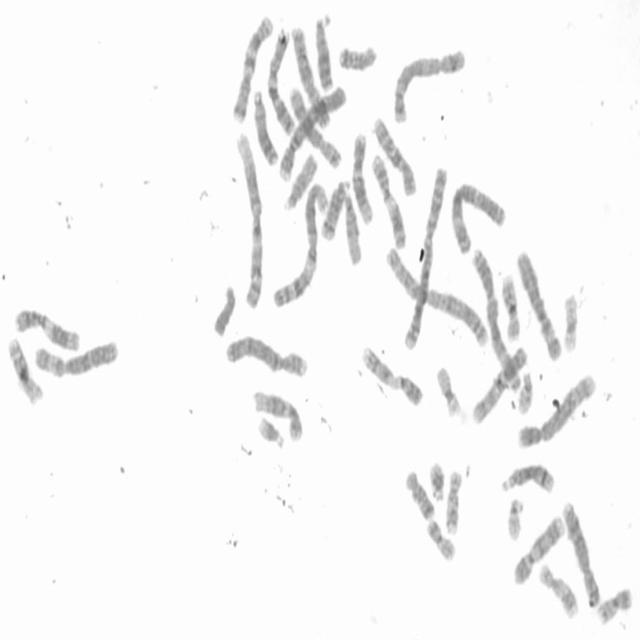A1: (271, 182, 330, 308), (236, 130, 265, 310)
A2: (385, 244, 489, 348), (404, 168, 447, 352)
A3: (470, 248, 522, 393), (450, 181, 507, 254)
B4: (278, 85, 348, 180), (225, 333, 307, 380)
B5: (516, 374, 597, 452), (392, 46, 467, 124)
C10: (471, 344, 527, 426), (373, 115, 418, 196)
C11: (370, 152, 408, 248), (14, 308, 81, 352)
C12: (252, 389, 304, 442), (351, 130, 376, 226)
C6: (515, 249, 562, 364), (34, 340, 120, 379)
C7: (232, 16, 274, 125), (265, 26, 296, 136)
C8: (288, 86, 343, 172), (562, 499, 601, 611)
C9: (512, 514, 567, 588), (362, 344, 425, 406)
D13: (253, 88, 278, 166), (314, 13, 335, 92)
D14: (321, 177, 352, 243), (502, 465, 556, 496)
D15: (282, 150, 320, 212), (343, 180, 362, 267)
E16: (6, 336, 44, 407), (500, 273, 521, 344)
E17: (539, 565, 579, 621), (445, 469, 462, 537)
E18: (405, 469, 435, 521), (338, 47, 378, 73)
F19: (436, 365, 462, 419), (564, 292, 578, 354)
F20: (596, 586, 634, 628), (426, 518, 458, 565)
G21: (257, 416, 286, 452), (429, 461, 447, 503)
G22: (506, 497, 526, 544), (517, 369, 535, 417)
X: (289, 23, 332, 130)
Y: (212, 284, 238, 339)
